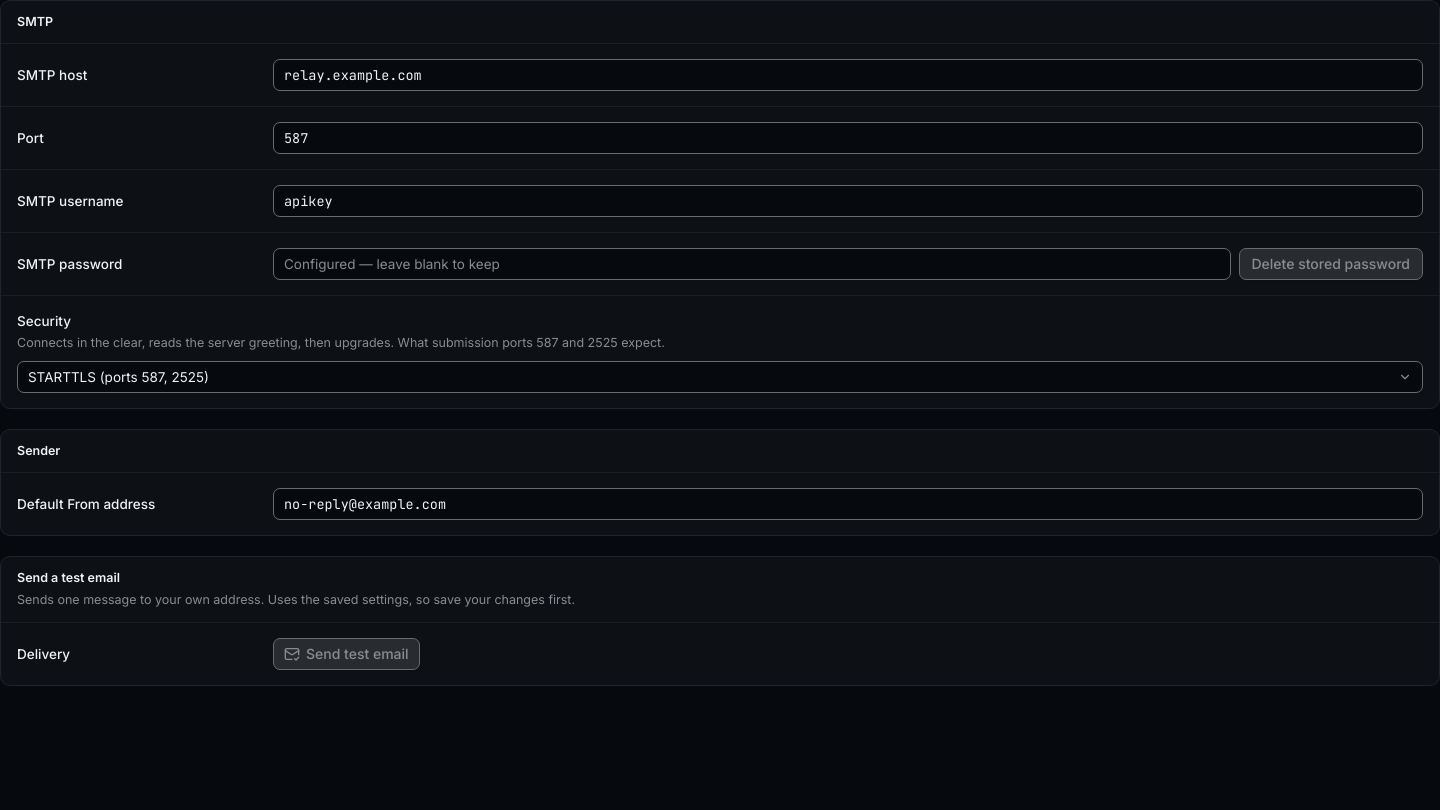
Test: Email settings — test send › reports the relay failure verbatim instead of a generic error
Click the button "Send test email" at (346, 654), box [273, 638, 420, 670]
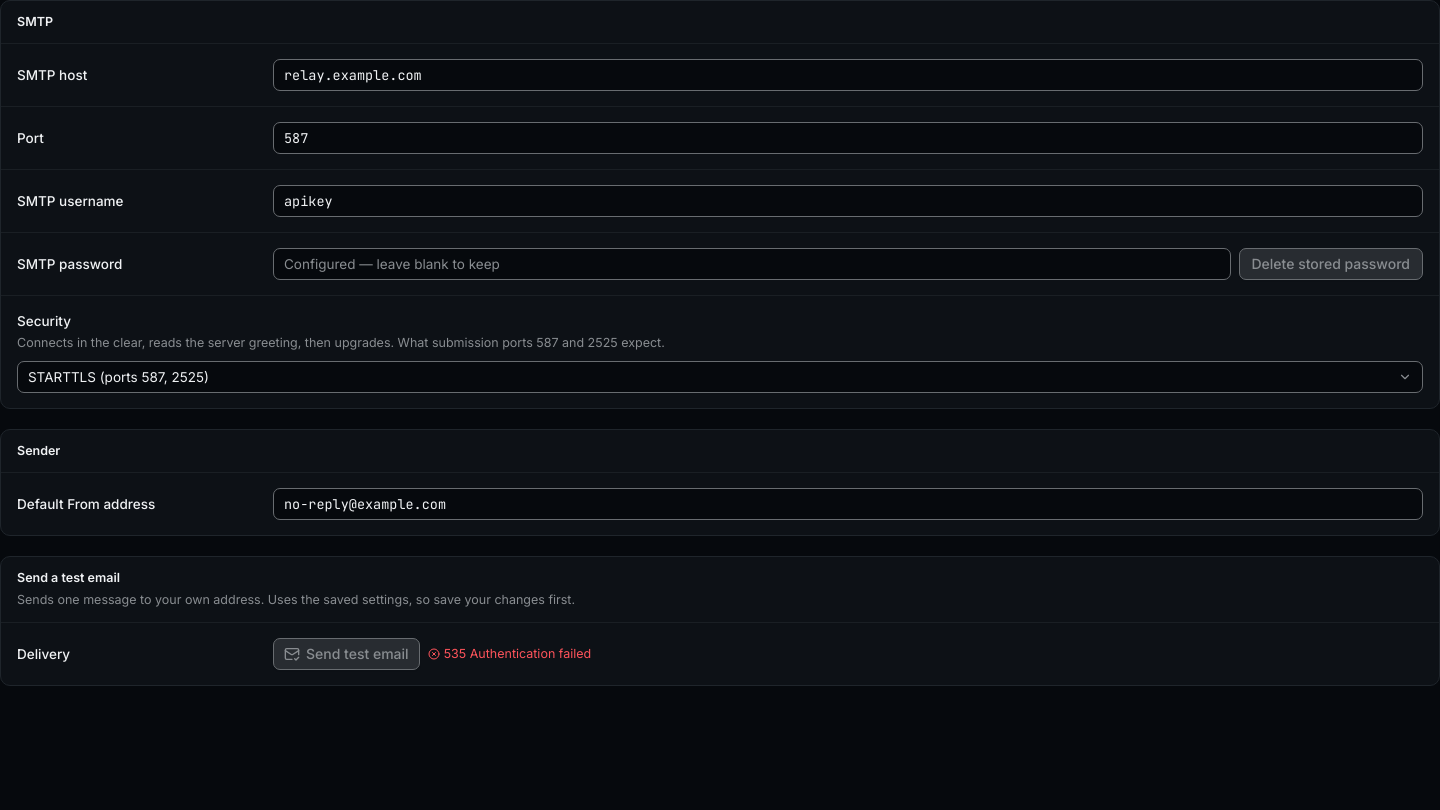
Expected: the text "535 Authentication failed" is shown, [428, 645, 591, 663]
